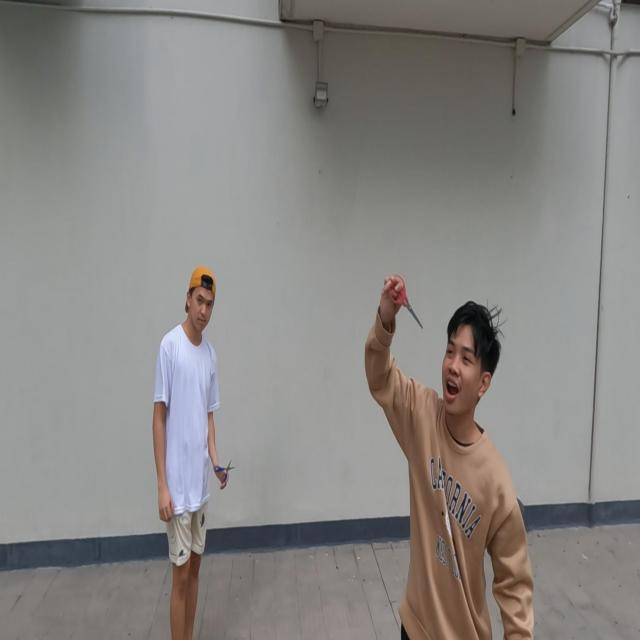scissor: (386, 270, 425, 331), (214, 458, 236, 485)
